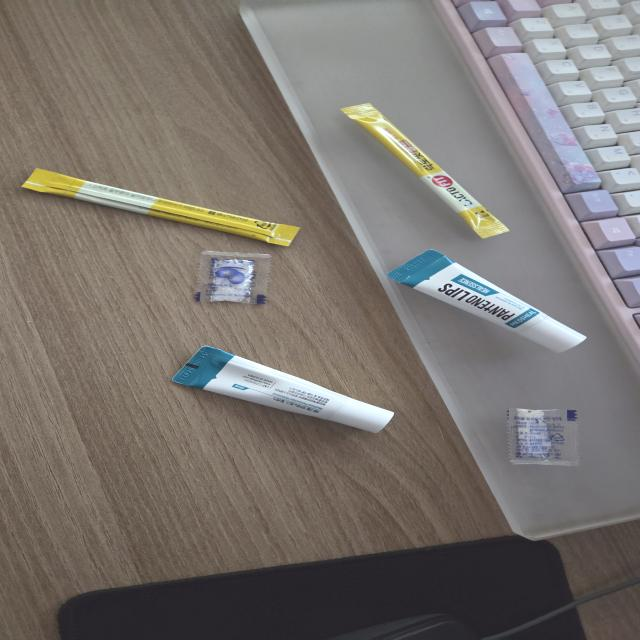lacto: (339, 102, 516, 238), (20, 165, 301, 248)
lib: (384, 249, 588, 355), (170, 345, 396, 434)
salt: (189, 248, 274, 310), (507, 408, 584, 466)
